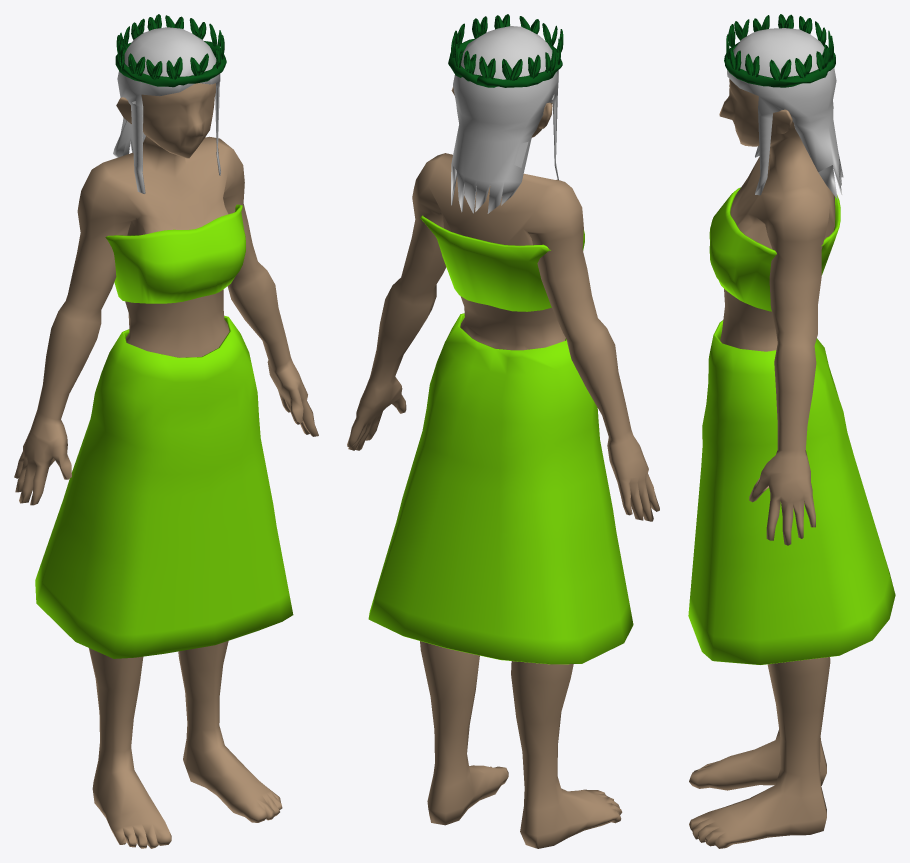
Rendered from Makilia.glb.
The picture shows the model from 3 angles, left to right: view 1: azimuth 30°, elevation 25°; view 2: azimuth 150°, elevation 25°; view 3: azimuth 270°, elevation 25°; orthographic projection. The views are drawn at different scales.
Parts seen in each view (by area): view 1: polySurface60.015; view 2: polySurface60.015; view 3: polySurface60.015.
Boxes of the visible parts, x1=… form: polySurface60.015: x1=14, y1=14, x2=318, y2=848; polySurface60.015: x1=347, y1=14, x2=659, y2=848; polySurface60.015: x1=688, y1=14, x2=895, y2=848.
Bounding box in the file's own units: 0.9975 × 2.52 × 0.6085.
